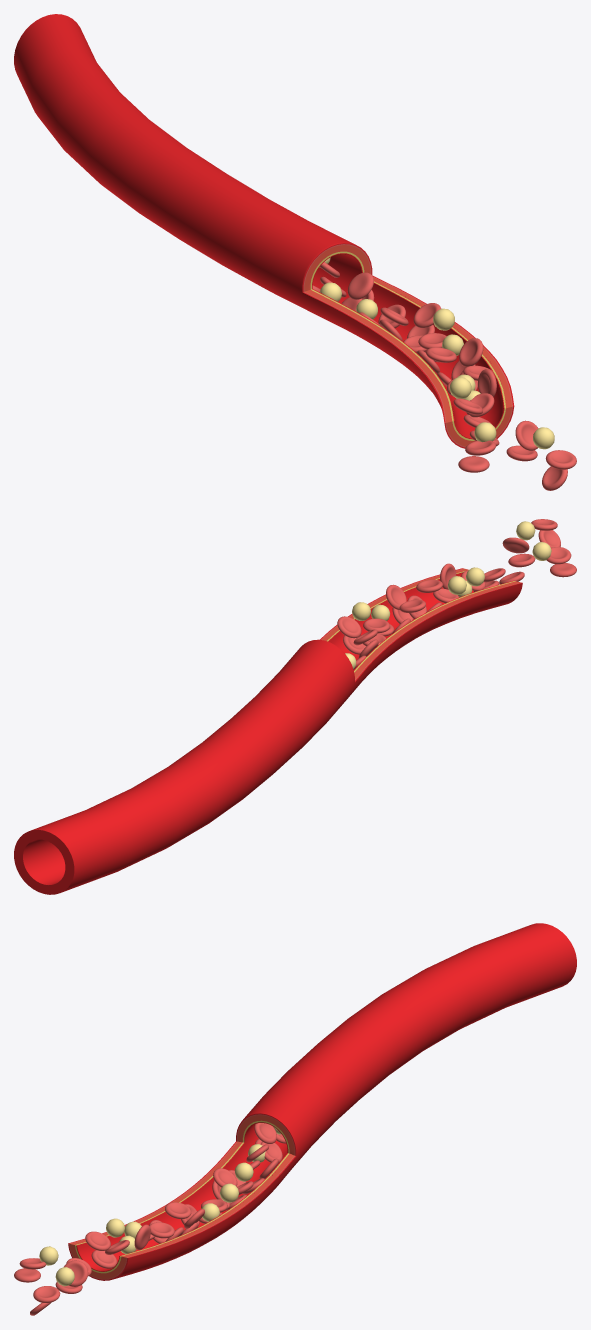
File: pembuluhdarah.fbx
3 views of the same model, one above another, from view 1: azimuth 30°, elevation 25°; view 2: azimuth 150°, elevation 25°; view 3: azimuth 330°, elevation 25° (orthographic). The views are drawn at different scales.
Visible parts, largest first — view 1: Tube001, Object002, Object004, Object003, Object001; view 2: Tube001, Object002; view 3: Tube001, Object002, Object004, Object003, Object001.
Part boxes in pixels (<box>): Tube001: <box>14,14,514,448</box>; Object002: <box>304,245,512,446</box>; Object004: <box>310,251,505,440</box>; Object003: <box>309,250,507,442</box>; Object001: <box>303,244,512,447</box>; Tube001: <box>14,568,522,894</box>; Object002: <box>322,568,520,679</box>; Tube001: <box>68,923,576,1280</box>; Object002: <box>69,1115,294,1278</box>; Object004: <box>75,1120,289,1273</box>; Object003: <box>74,1119,290,1274</box>; Object001: <box>69,1114,295,1279</box>.
Size of the model in its own units: 206 by 109 by 1447.
